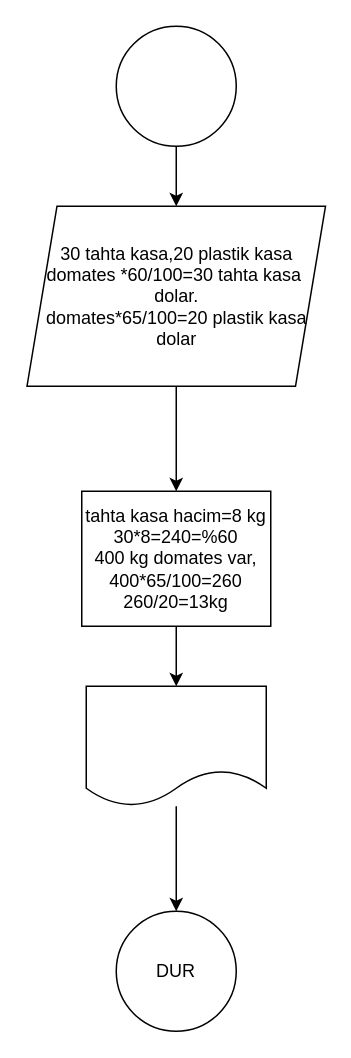
This 351x1058 diagram has some shape labels left out. Here are the shapes that lost their labels. From the top down, the box of each, then its label:
(115, 25, 236, 146): BAŞLA
(85, 685, 266, 806): 13 kg
